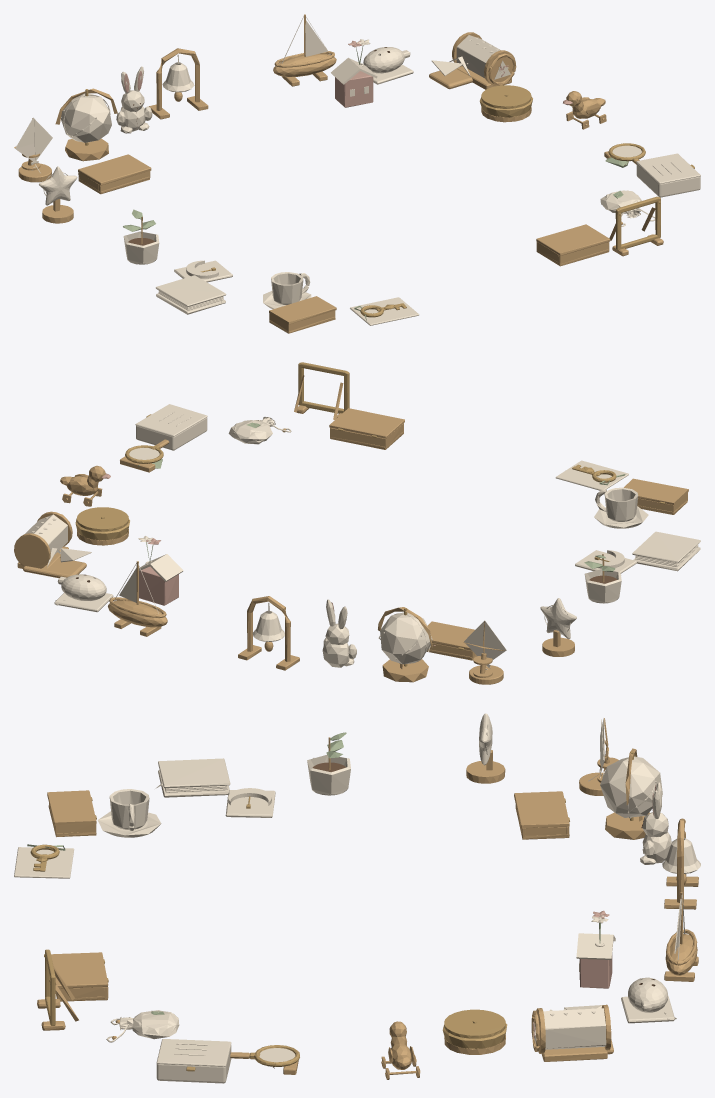
Rendered from display-collection.cdf44fe7e5e3-BFDenhEy.glb.
3 views of the same model, one above another, from view 1: azimuth 30°, elevation 25°; view 2: azimuth 150°, elevation 25°; view 3: azimuth 270°, elevation 25° (orthographic). The views are drawn at different scales.
Parts seen in each view (by area): view 1: LOD_24_MAT_1, LOD_13_MAT_0, LOD_17_MAT_0, LOD_12_MAT_1, LOD_07_MAT_0, LOD_04_MAT_1, LOD_11_MAT_1, LOD_16_MAT_5, LOD_03_MAT_0, LOD_21_MAT_0, LOD_10_MAT_1, LOD_14_MAT_0 (+18 smaller); view 2: LOD_13_MAT_0, LOD_24_MAT_1, LOD_17_MAT_0, LOD_07_MAT_0, LOD_21_MAT_0, LOD_11_MAT_1, LOD_14_MAT_0, LOD_16_MAT_5, LOD_04_MAT_1, LOD_03_MAT_0, LOD_10_MAT_1, LOD_12_MAT_1 (+17 smaller); view 3: LOD_13_MAT_0, LOD_17_MAT_0, LOD_07_MAT_0, LOD_10_MAT_0, LOD_12_MAT_1, LOD_24_MAT_1, LOD_21_MAT_0, LOD_16_MAT_5, LOD_04_MAT_1, LOD_14_MAT_0, LOD_10_MAT_1, LOD_03_MAT_0 (+16 smaller).
Boxes of the visible parts, left/top/right/bottom form: LOD_24_MAT_1: left=536, top=224, right=610, bottom=266; LOD_13_MAT_0: left=636, top=153, right=700, bottom=197; LOD_17_MAT_0: left=61, top=93, right=111, bottom=142; LOD_12_MAT_1: left=78, top=154, right=151, bottom=194; LOD_07_MAT_0: left=155, top=275, right=226, bottom=314; LOD_04_MAT_1: left=269, top=296, right=336, bottom=333; LOD_11_MAT_1: left=273, top=14, right=336, bottom=86; LOD_16_MAT_5: left=479, top=85, right=532, bottom=117; LOD_03_MAT_0: left=116, top=66, right=152, bottom=133; LOD_21_MAT_0: left=263, top=272, right=311, bottom=309; LOD_10_MAT_1: left=452, top=32, right=516, bottom=89; LOD_14_MAT_0: left=363, top=47, right=413, bottom=84; LOD_13_MAT_0: left=135, top=404, right=207, bottom=450; LOD_24_MAT_1: left=329, top=408, right=404, bottom=449; LOD_17_MAT_0: left=378, top=612, right=432, bottom=664; LOD_07_MAT_0: left=632, top=531, right=700, bottom=571; LOD_21_MAT_0: left=594, top=487, right=648, bottom=528; LOD_11_MAT_1: left=108, top=561, right=167, bottom=636; LOD_14_MAT_0: left=54, top=574, right=113, bottom=612; LOD_16_MAT_5: left=75, top=507, right=129, bottom=540; LOD_04_MAT_1: left=624, top=478, right=688, bottom=514; LOD_03_MAT_0: left=322, top=599, right=356, bottom=667; LOD_10_MAT_1: left=14, top=511, right=72, bottom=568; LOD_12_MAT_1: left=427, top=621, right=476, bottom=660; LOD_13_MAT_0: left=156, top=1039, right=231, bottom=1083; LOD_17_MAT_0: left=600, top=756, right=662, bottom=818; LOD_07_MAT_0: left=155, top=758, right=230, bottom=797; LOD_10_MAT_0: left=533, top=1007, right=606, bottom=1049; LOD_12_MAT_1: left=514, top=791, right=569, bottom=839; LOD_24_MAT_1: left=51, top=952, right=108, bottom=1001; LOD_21_MAT_0: left=97, top=789, right=161, bottom=837; LOD_16_MAT_5: left=442, top=1009, right=507, bottom=1048; LOD_04_MAT_1: left=47, top=790, right=96, bottom=837; LOD_14_MAT_0: left=621, top=977, right=676, bottom=1023; LOD_10_MAT_1: left=531, top=1004, right=611, bottom=1061; LOD_03_MAT_0: left=640, top=782, right=671, bottom=864.
Size of the model in its own units: 5.54 by 0.64 by 5.02.
